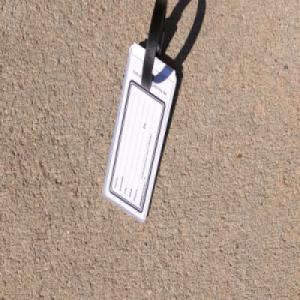LuggageTag: (103, 0, 178, 224)
